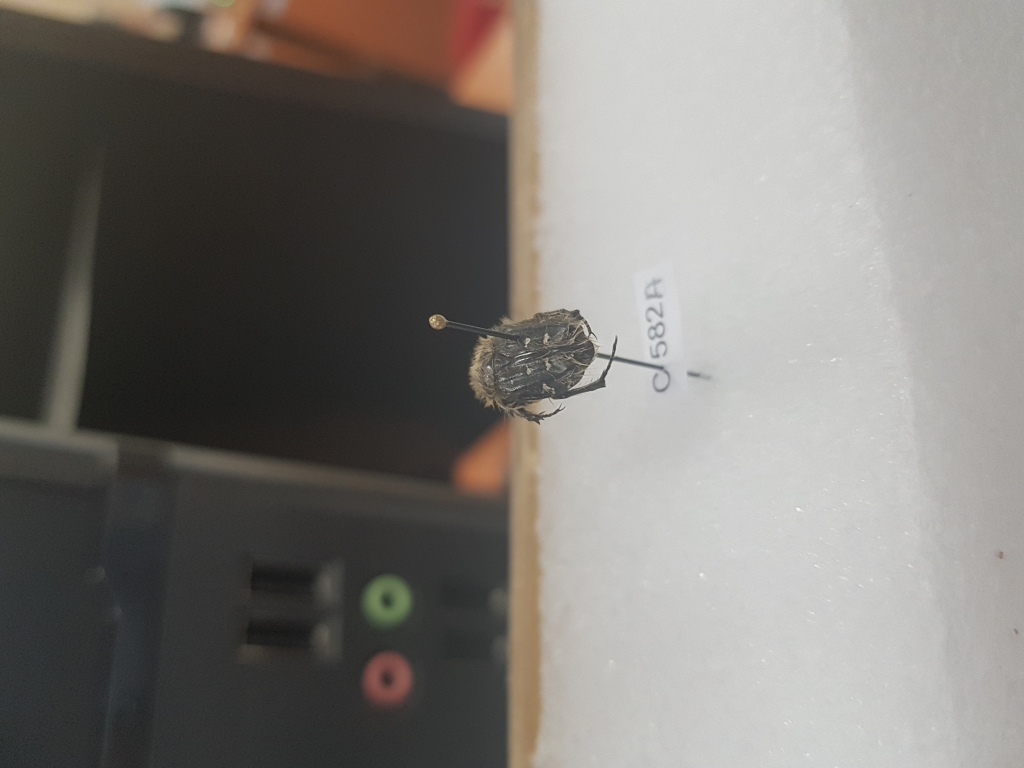Tropinota_hirta: (465, 297, 634, 427)
